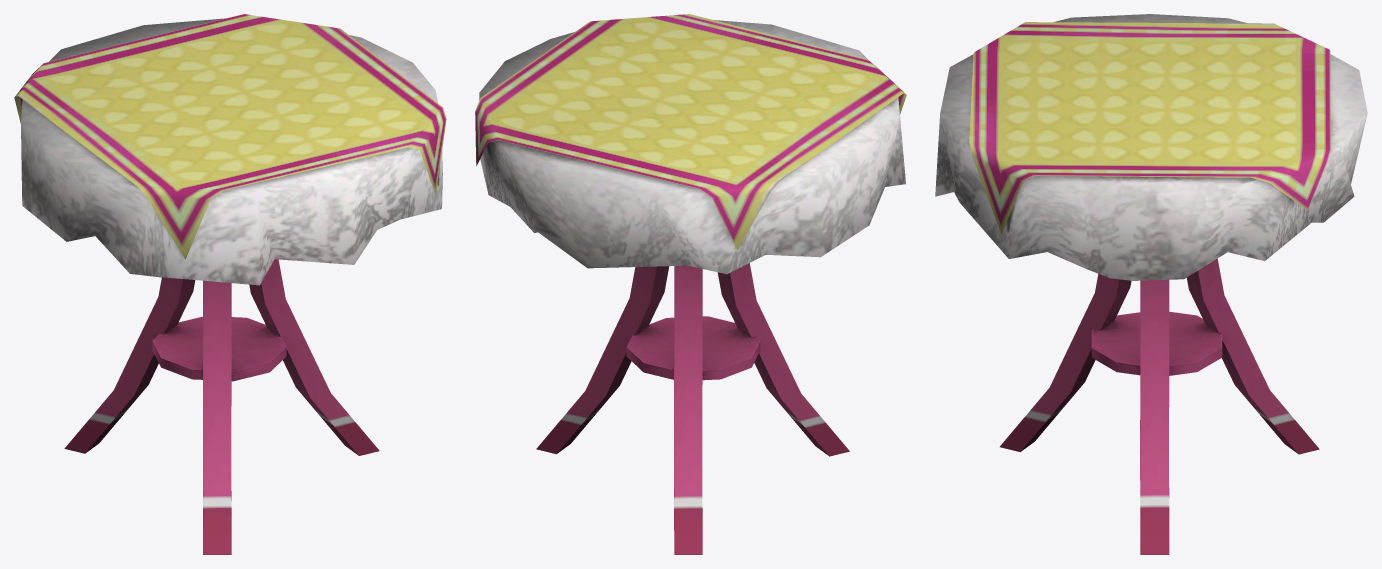
The model's file is furni_0200507_01.FBX.
3 renders of one model, left to right at view 1: azimuth 30°, elevation 25°; view 2: azimuth 150°, elevation 25°; view 3: azimuth 270°, elevation 25°, orthographic. The views are drawn at different scales.
Parts seen in each view (by area): view 1: furni_0200507_01; view 2: furni_0200507_01; view 3: furni_0200507_01.
Part boxes in pixels (bbox=[...]): furni_0200507_01: bbox=[14, 14, 446, 554]; furni_0200507_01: bbox=[475, 14, 906, 554]; furni_0200507_01: bbox=[935, 14, 1367, 554].
Bounding box in the file's own units: 81.62 × 81.27 × 82.8.
Materials: 1 (1 with a texture image).
